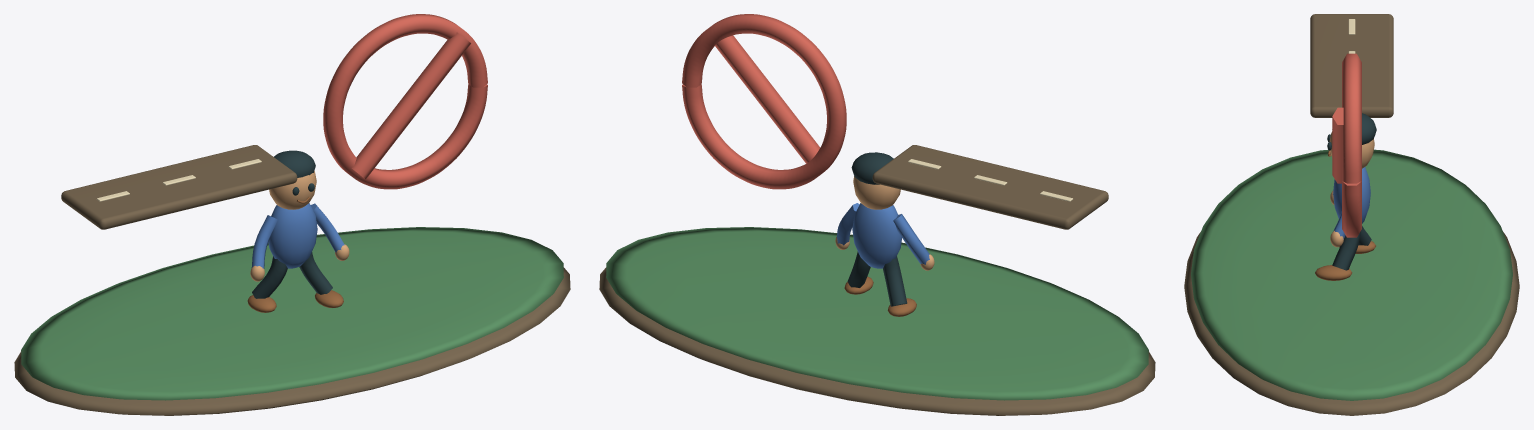
File: complete-first-still-on-road.glb
The picture shows the model from 3 angles, left to right: view 1: azimuth 30°, elevation 25°; view 2: azimuth 150°, elevation 25°; view 3: azimuth 270°, elevation 25°; orthographic projection.
Parts seen in each view (by area): view 1: complete-first-still-on-road_surface_01, complete-first-still-on-road_surface_00, complete-first-still-on-road_surface_03, complete-first-still-on-road_surface_07, complete-first-still-on-road_surface_05, complete-first-still-on-road_surface_04, complete-first-still-on-road_surface_06; view 2: complete-first-still-on-road_surface_01, complete-first-still-on-road_surface_00, complete-first-still-on-road_surface_03, complete-first-still-on-road_surface_07, complete-first-still-on-road_surface_05, complete-first-still-on-road_surface_04, complete-first-still-on-road_surface_06; view 3: complete-first-still-on-road_surface_01, complete-first-still-on-road_surface_00, complete-first-still-on-road_surface_03, complete-first-still-on-road_surface_05, complete-first-still-on-road_surface_07, complete-first-still-on-road_surface_06, complete-first-still-on-road_surface_04.
Boxes of the visible parts, x1,y1,x2,y2 form: complete-first-still-on-road_surface_01: (21,227,563,400); complete-first-still-on-road_surface_00: (14,145,570,415); complete-first-still-on-road_surface_03: (323,14,487,189); complete-first-still-on-road_surface_07: (251,203,344,268); complete-first-still-on-road_surface_05: (252,150,332,298); complete-first-still-on-road_surface_04: (250,171,349,281); complete-first-still-on-road_surface_06: (247,197,343,312); complete-first-still-on-road_surface_01: (606,227,1148,400); complete-first-still-on-road_surface_00: (599,145,1155,415); complete-first-still-on-road_surface_03: (682,14,846,189); complete-first-still-on-road_surface_07: (836,203,929,268); complete-first-still-on-road_surface_05: (847,152,907,306); complete-first-still-on-road_surface_04: (835,176,934,270); complete-first-still-on-road_surface_06: (844,276,916,316); complete-first-still-on-road_surface_01: (1191,149,1512,400); complete-first-still-on-road_surface_00: (1184,14,1519,415); complete-first-still-on-road_surface_03: (1332,53,1361,237); complete-first-still-on-road_surface_05: (1327,113,1376,270); complete-first-still-on-road_surface_07: (1333,167,1370,239); complete-first-still-on-road_surface_06: (1315,150,1375,280); complete-first-still-on-road_surface_04: (1329,131,1374,247).
Size of the model in its own units: 4.56 by 2.43 by 2.5.
